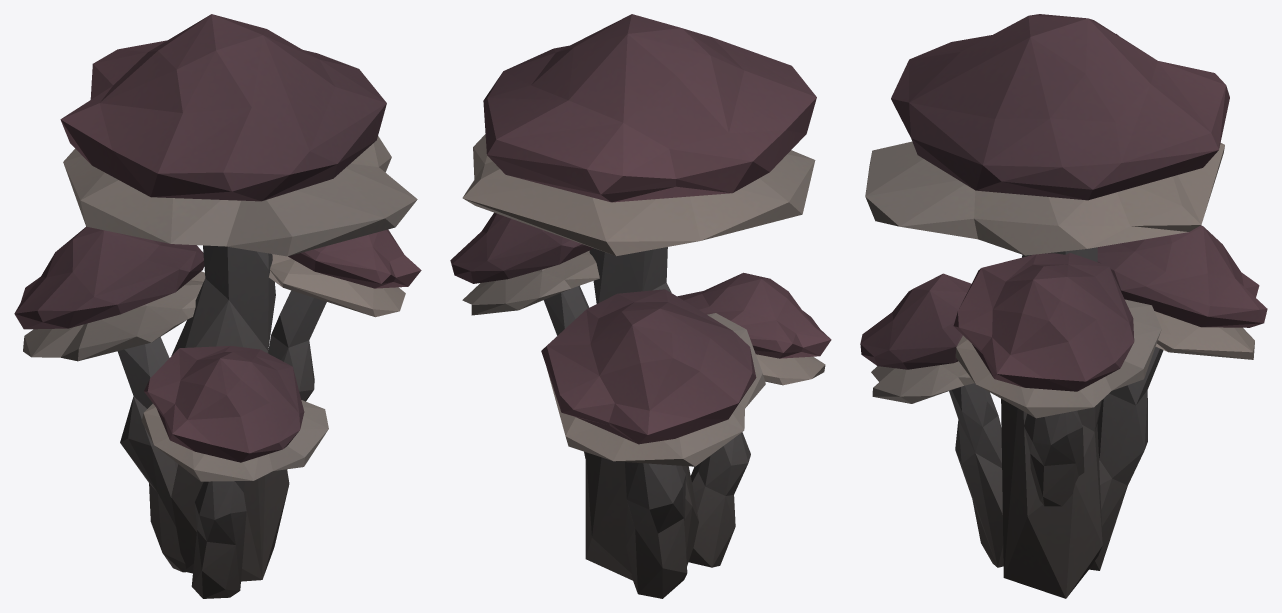
Rendered from Mush_2D.fbx.
3 views of the same model, side by side, from view 1: azimuth 30°, elevation 25°; view 2: azimuth 150°, elevation 25°; view 3: azimuth 270°, elevation 25° (orthographic). The views are drawn at different scales.
Parts seen in each view (by area): view 1: polySurface1320; view 2: polySurface1320; view 3: polySurface1320.
Part boxes in pixels (x1,y1,x2,y2): polySurface1320: [14, 14, 421, 598]; polySurface1320: [450, 14, 831, 598]; polySurface1320: [860, 14, 1267, 598].
Bounding box in the file's own units: 1.35 × 2.13 × 1.4.
